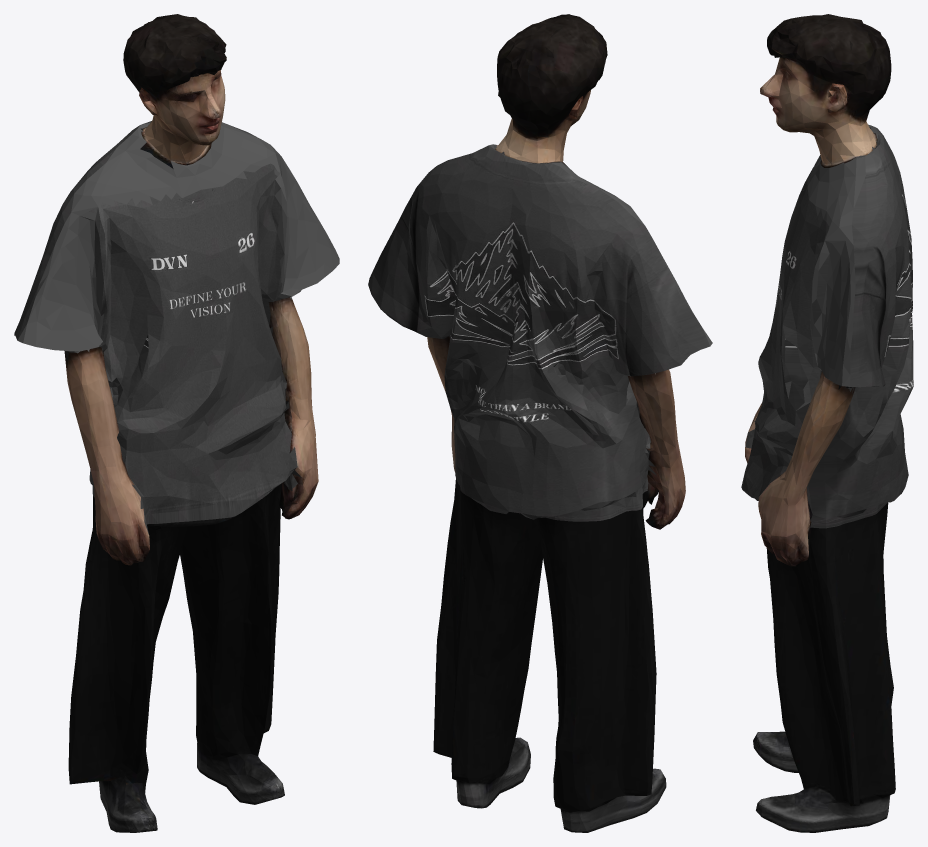
The model's file is define-your-vision.glb.
The picture shows the model from 3 angles, left to right: view 1: azimuth 30°, elevation 25°; view 2: azimuth 150°, elevation 25°; view 3: azimuth 270°, elevation 25°; orthographic projection.
Parts seen in each view (by area): view 1: DVN-person-wearing-define-your-vision; view 2: DVN-person-wearing-define-your-vision; view 3: DVN-person-wearing-define-your-vision.
Part boxes in pixels (x1=…): DVN-person-wearing-define-your-vision: x1=14, y1=14, x2=339, y2=832; DVN-person-wearing-define-your-vision: x1=368, y1=14, x2=712, y2=832; DVN-person-wearing-define-your-vision: x1=741, y1=14, x2=913, y2=832.
Size of the model in its own units: 0.7998 by 1.79 by 0.3611.
4 materials, 3 textured.
